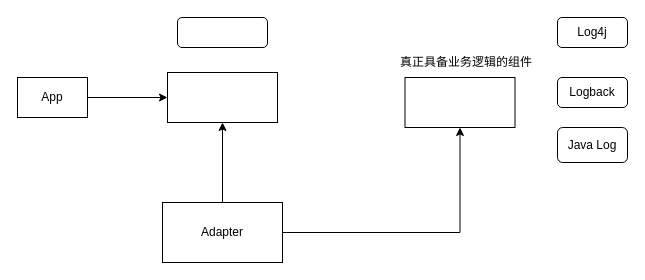
Some shapes in this 645 by 280 pixel diagram are drawn without their labels. Here are the shapes that lost their labels. From the top down, the centre of each, then its label:
the point at 222,32: Mybatis中的Log
the point at 222,97: «interface» Target
the point at 459,102: Adaptee
